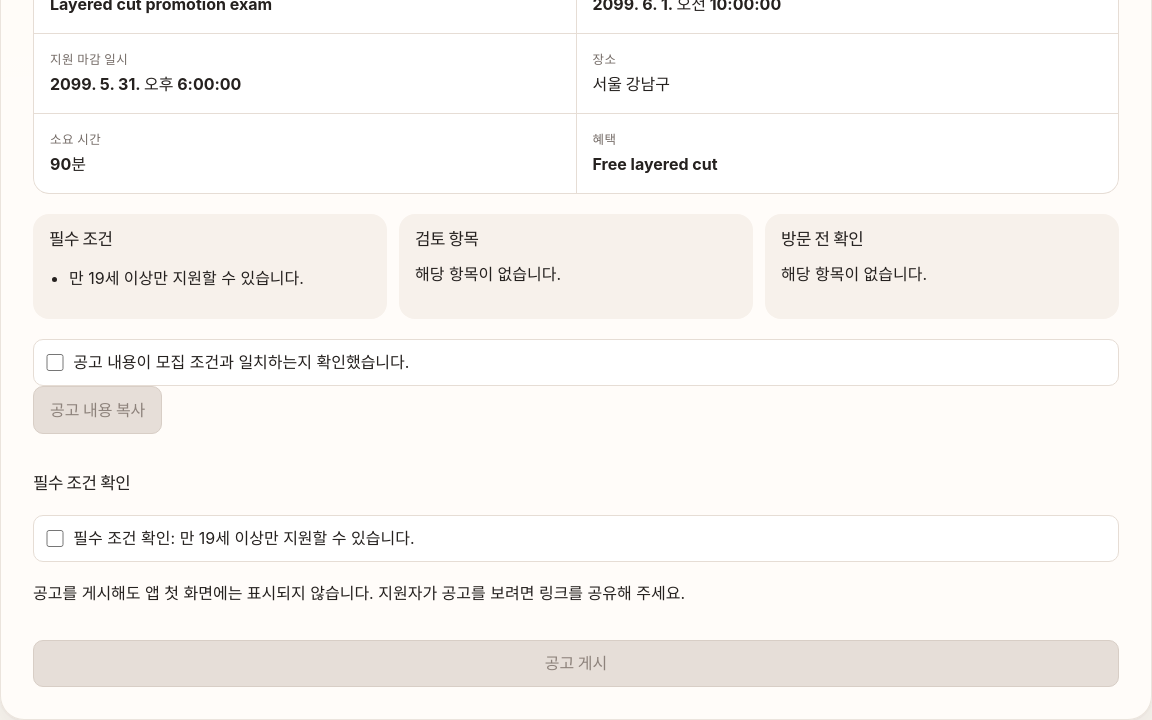
Test: updates a visible publication error when the locale changes
(page scrolled)
What coordinates should you click on to do the following:
click the checkbox labelled "필수 조건 확인: 만 19세 이상만 지원할 수 있습니다."
I would click on:
 (55, 538)
Its box is [46,530,64,547].
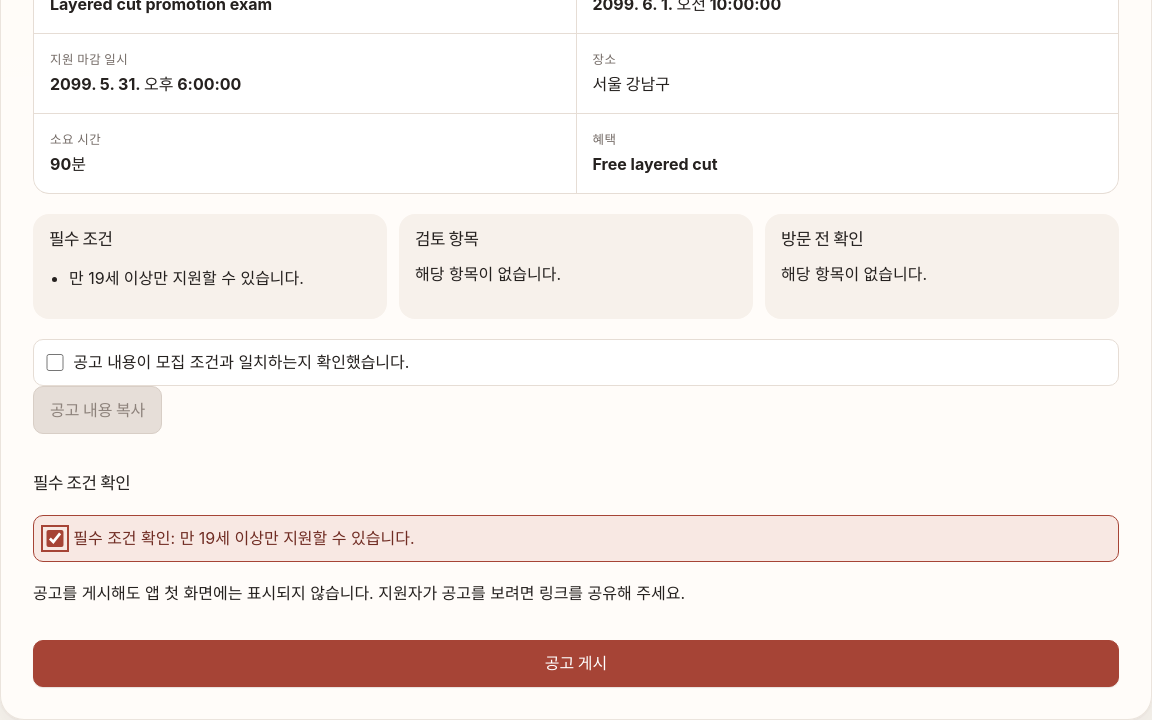
What coordinates should you click on to do the following:
click the button "공고 게시"
I would click on:
 (576, 664)
Its box is [33,640,1119,687].
(page scrolled)
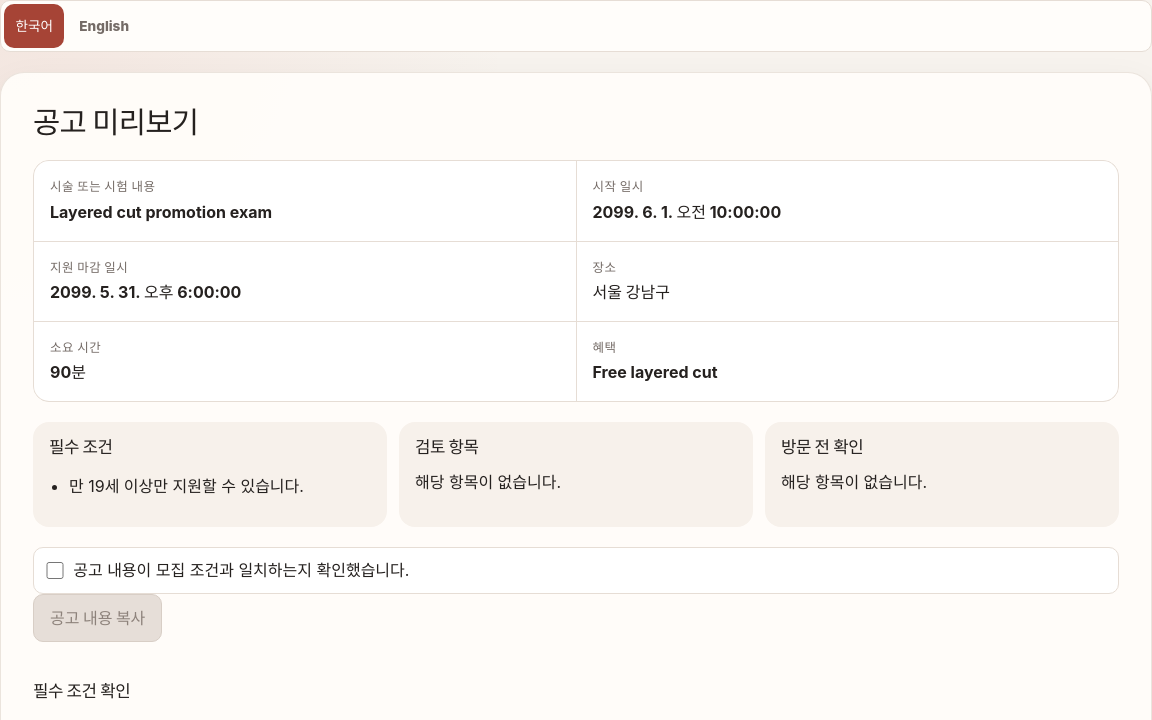
What coordinates should you click on to do the following:
click the button "English"
I would click on:
 (104, 26)
Its box is [68,4,140,48].
(page scrolled)
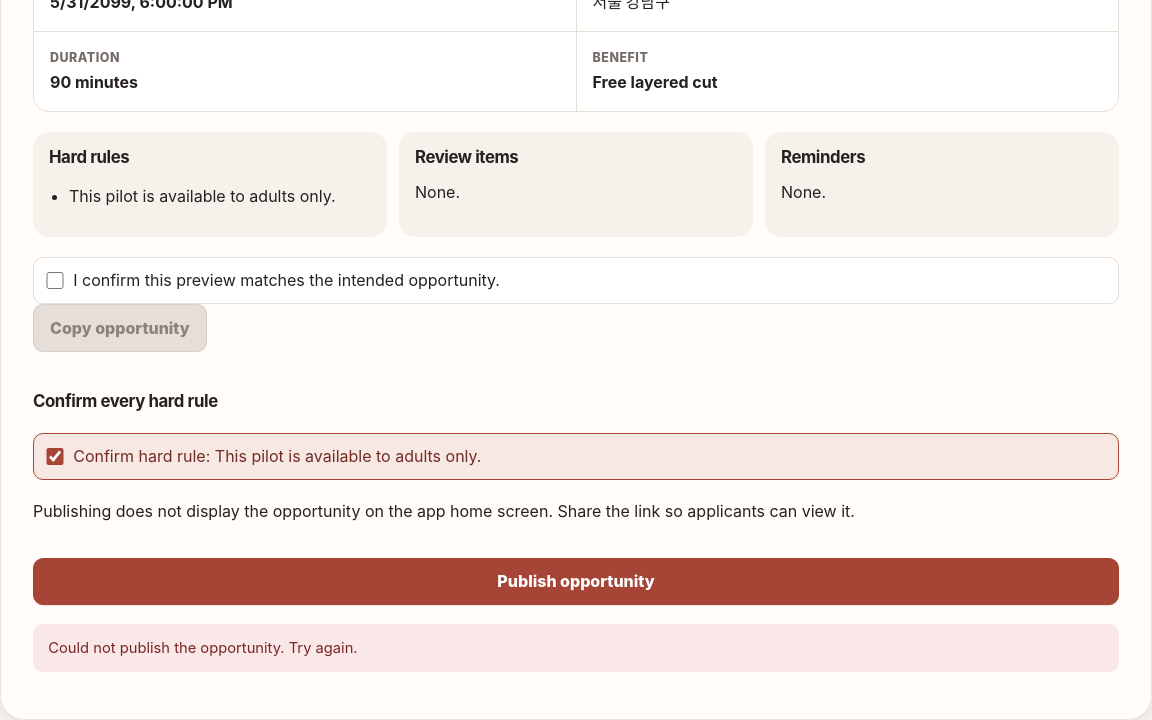
Result: the text "Could not publish the opportunity. Try again." is shown at [33,624,1119,672]
